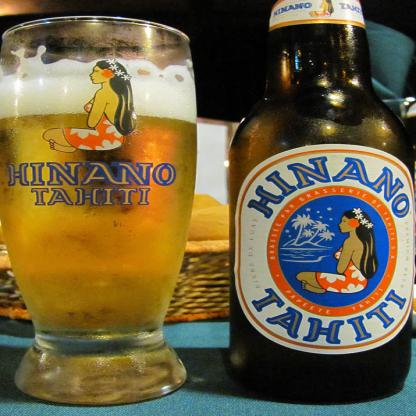drinking: (225, 0, 415, 406), (0, 15, 196, 406)
